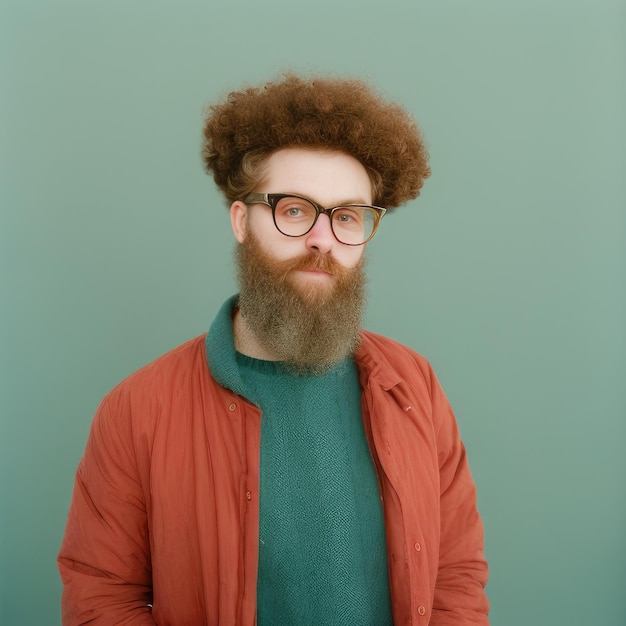young: (218, 87, 425, 329)
